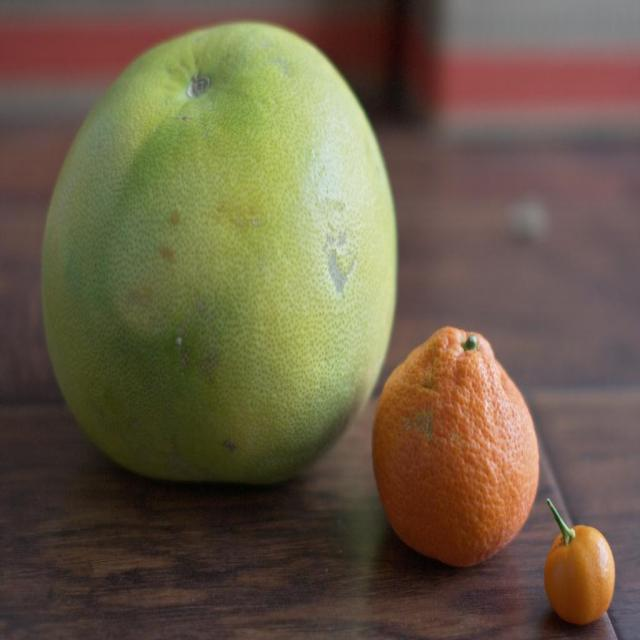Orange: (371, 328, 541, 566)
